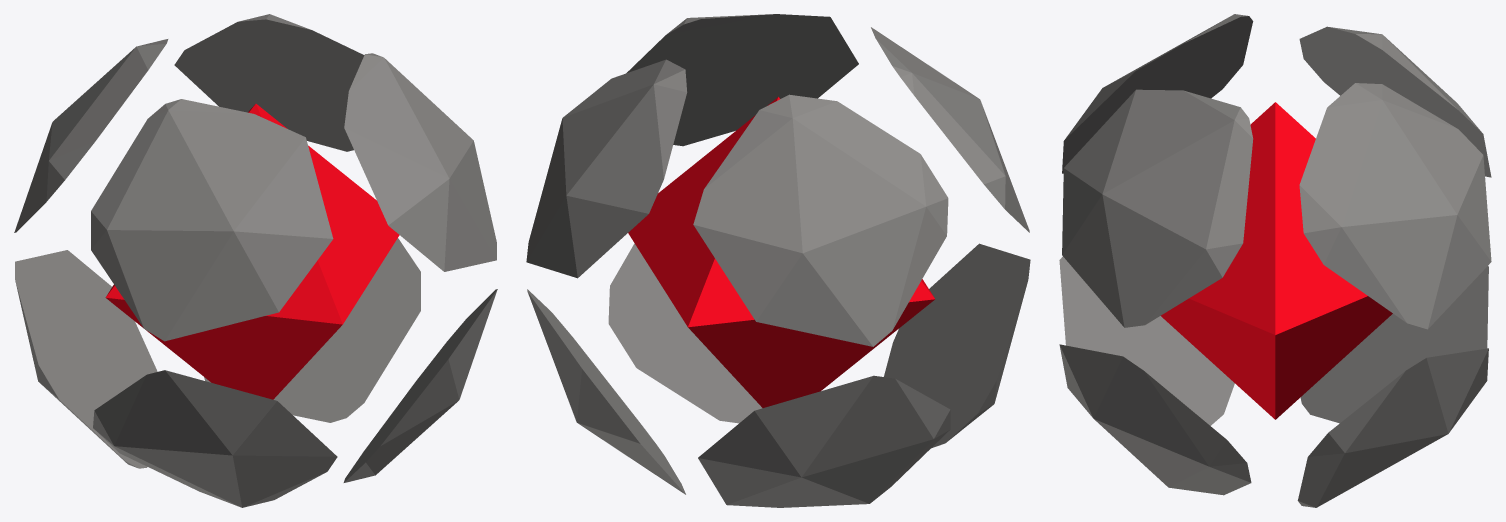
The model's file is ball.obj.
3 views of the same model, side by side, from view 1: azimuth 30°, elevation 25°; view 2: azimuth 150°, elevation 25°; view 3: azimuth 270°, elevation 25° (orthographic). The views are drawn at different scales.
Visible parts, largest first — view 1: ICO球; view 2: ICO球; view 3: ICO球.
Boxes of the visible parts, left/top/right/bottom form: ICO球: left=14, top=14, right=497, bottom=507; ICO球: left=526, top=14, right=1030, bottom=507; ICO球: left=1059, top=14, right=1491, bottom=507.
Bounding box in the file's own units: 1.77 × 1.78 × 1.72.
1 material, 1 textured.
